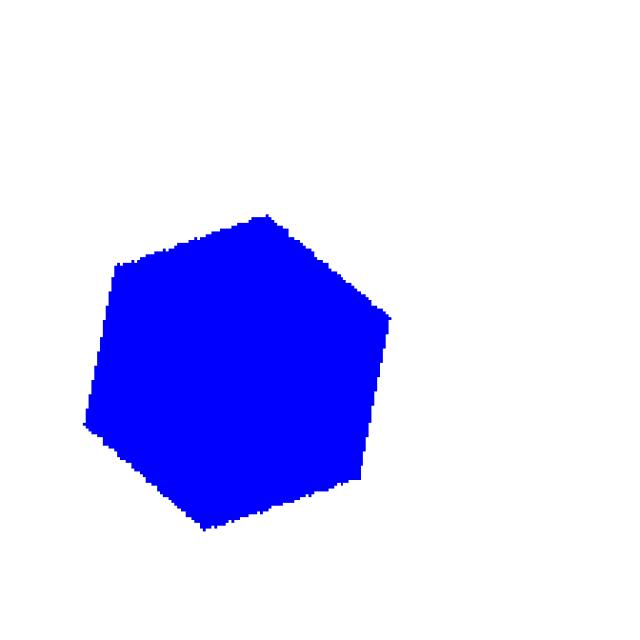Heptagon: (53, 202, 474, 584)
